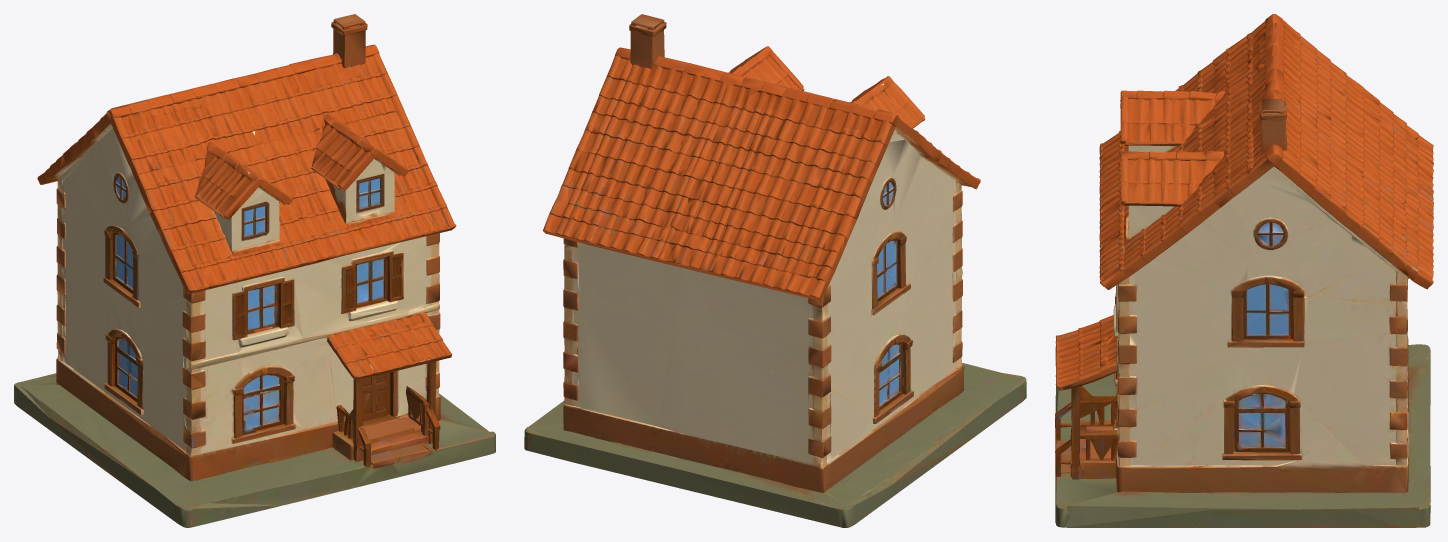
File: upm_mu5vzp0w2oi.glb
3 views of the same model, side by side, from view 1: azimuth 30°, elevation 25°; view 2: azimuth 150°, elevation 25°; view 3: azimuth 270°, elevation 25° (orthographic). The views are drawn at different scales.
Bounding box in the file's own units: 1.69 × 1.9 × 1.64.
1 material, 1 textured.
